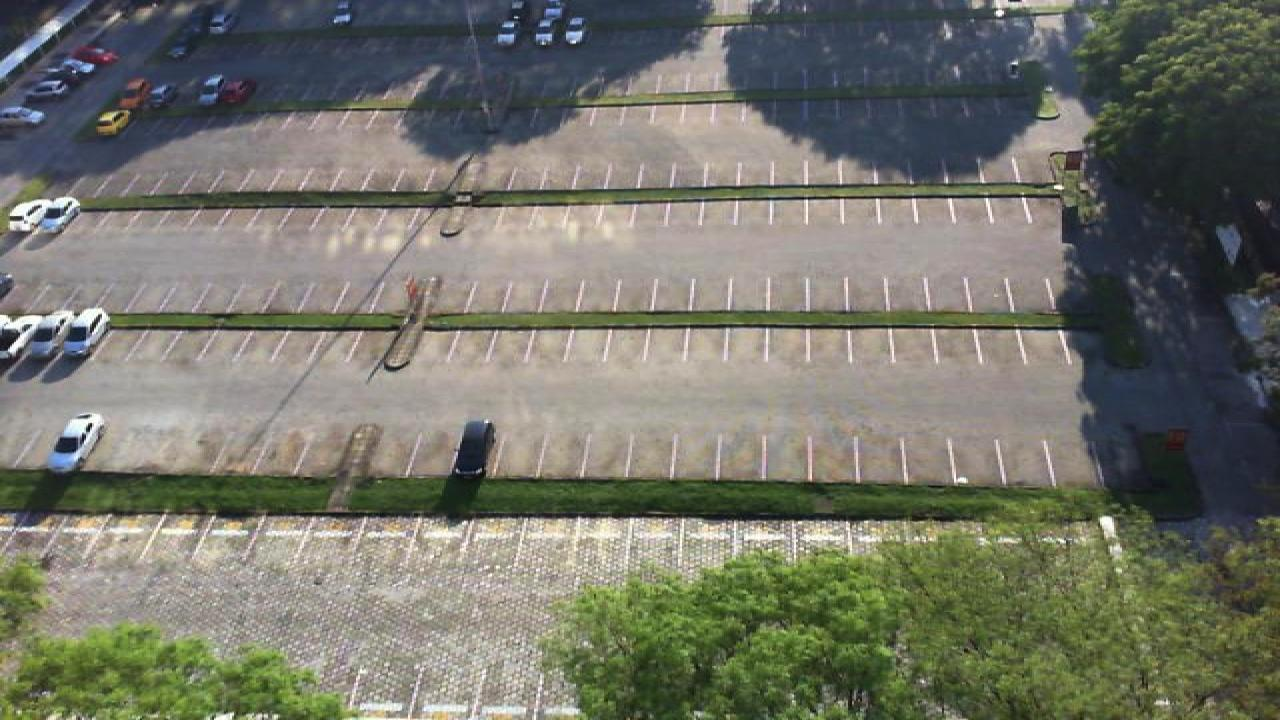Car: (46, 413, 106, 474), (58, 307, 112, 356), (450, 420, 496, 477), (26, 310, 82, 356), (2, 312, 52, 356), (34, 196, 82, 233), (6, 198, 52, 234), (94, 108, 134, 138), (116, 77, 152, 109), (66, 44, 118, 66), (0, 312, 24, 356), (196, 73, 226, 106), (0, 106, 46, 127), (220, 79, 254, 107), (48, 59, 90, 81), (20, 78, 68, 96), (494, 17, 522, 46), (204, 6, 232, 34), (530, 18, 558, 46), (150, 82, 178, 109), (168, 18, 196, 44), (564, 17, 588, 45), (332, 0, 356, 26), (536, 0, 560, 18), (502, 0, 526, 17)
